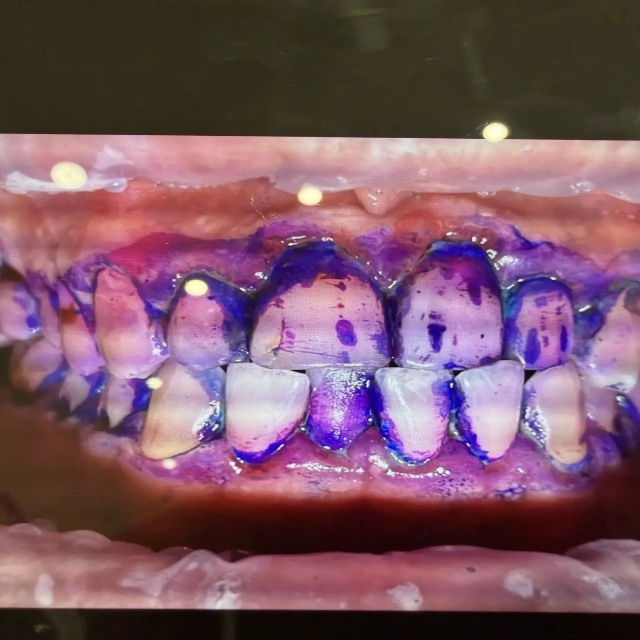plaque: (0, 214, 640, 499)
